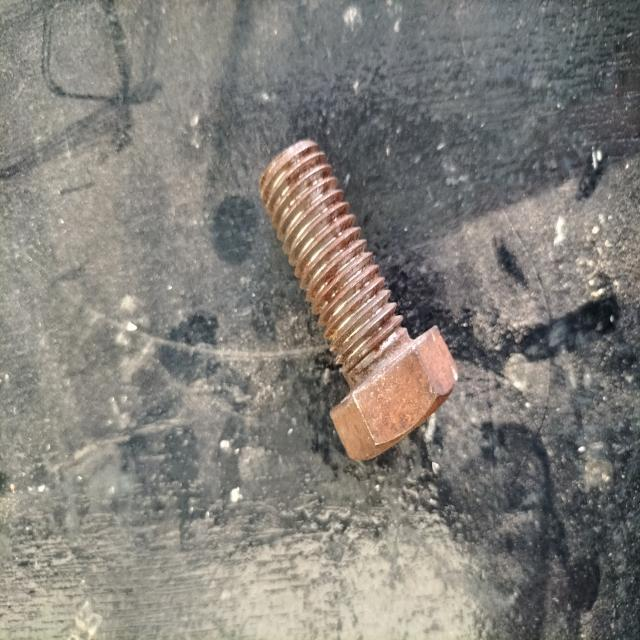bolt: (260, 138, 459, 461)
